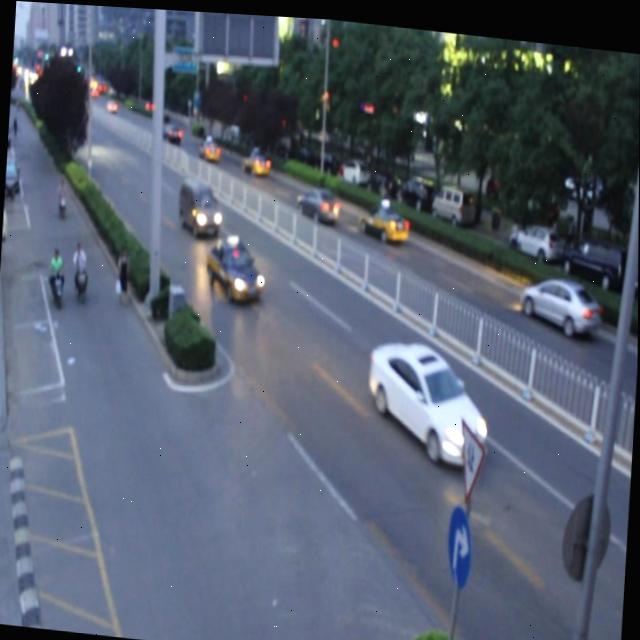car: (364, 330, 492, 462), (518, 265, 602, 331), (205, 230, 264, 300), (360, 194, 409, 239), (296, 181, 340, 221), (242, 144, 269, 172), (199, 132, 221, 159)
truck: (178, 174, 222, 232)
